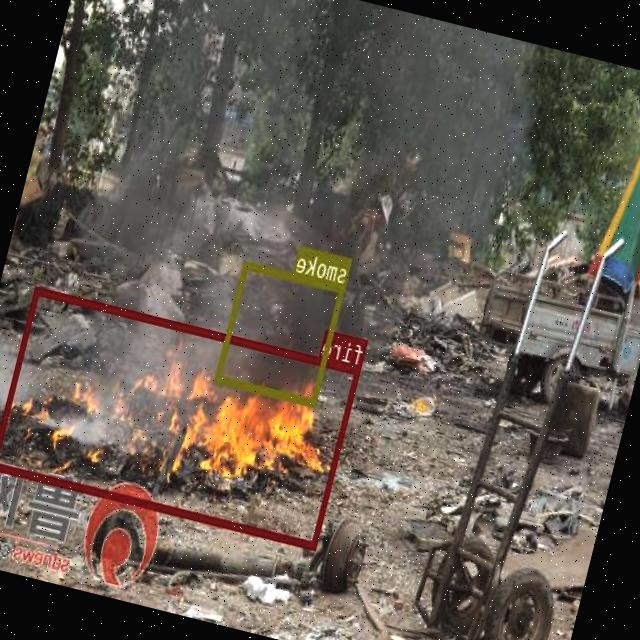fire: (0, 284, 361, 547)
smoke: (216, 260, 346, 406)
